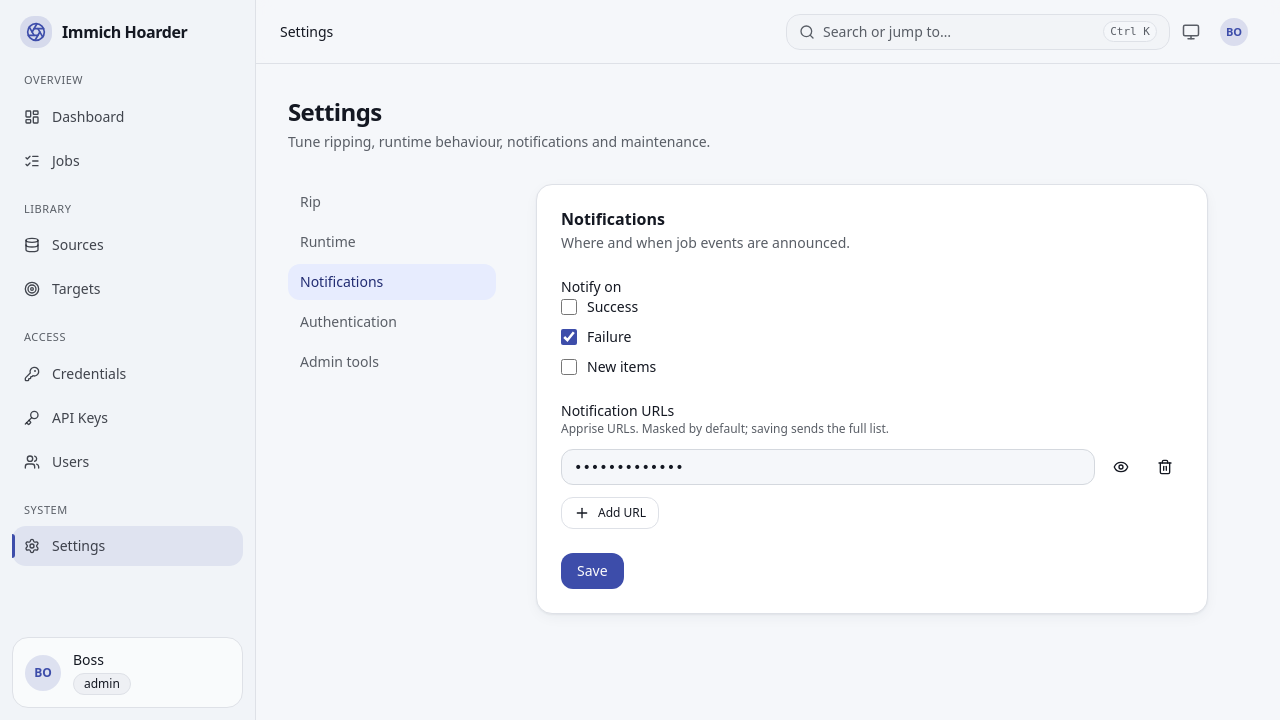
Test: settings › 422 on notify urls list shows under the list
Expected: the password field named "Notification URL 1" is shown, [561,449,1095,485]
Click the button "Save" at (592, 571), box [561,553,624,589]
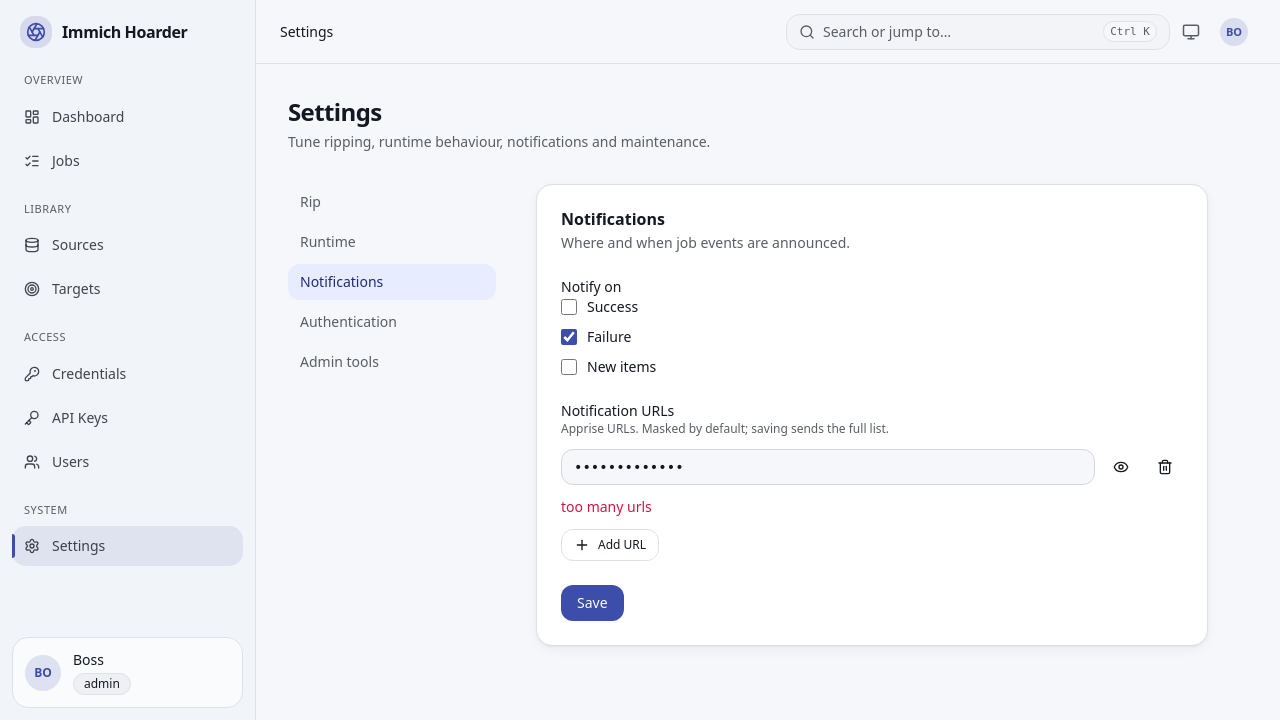
Result: the text "too many urls" is shown at [561,497,652,516]
